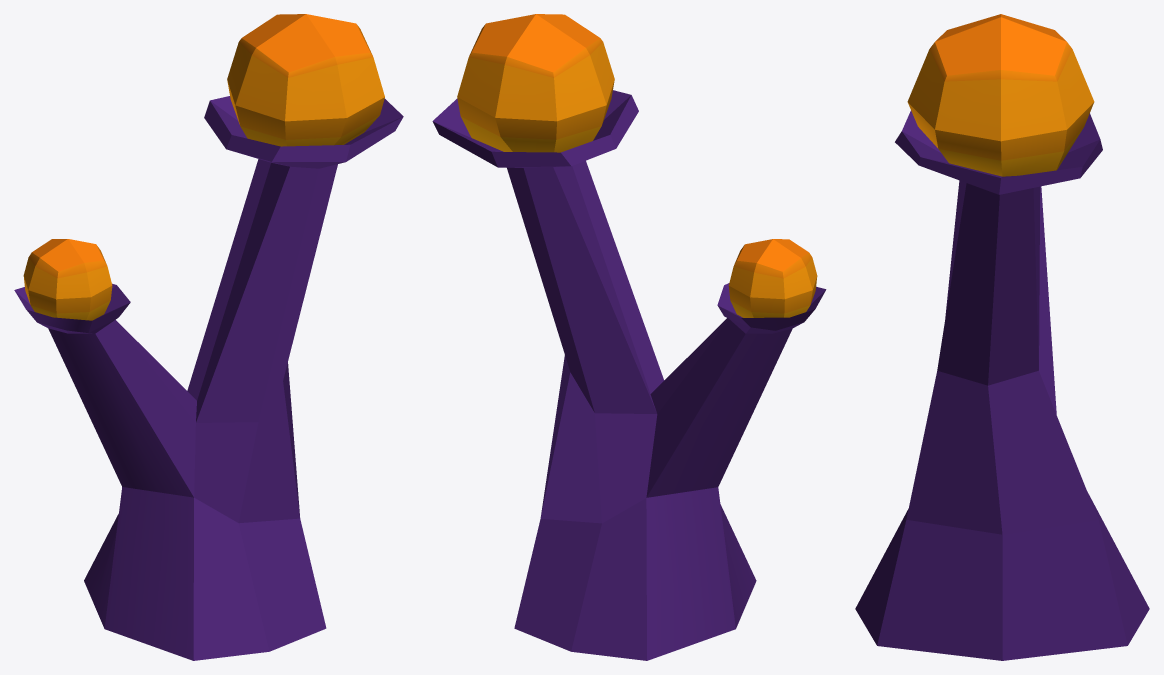
File: plante_2_etape_2.fbx
3 views of the same model, side by side, from view 1: azimuth 30°, elevation 25°; view 2: azimuth 150°, elevation 25°; view 3: azimuth 270°, elevation 25° (orthographic). The views are drawn at different scales.
Parts seen in each view (by area): view 1: stage_2; view 2: stage_2; view 3: stage_2.
Boxes of the visible parts, x1,y1,x2,y2 form: stage_2: [14, 14, 403, 660]; stage_2: [432, 14, 826, 660]; stage_2: [855, 14, 1149, 660].
Bounding box in the file's own units: 1.27 × 1.88 × 0.7754.
